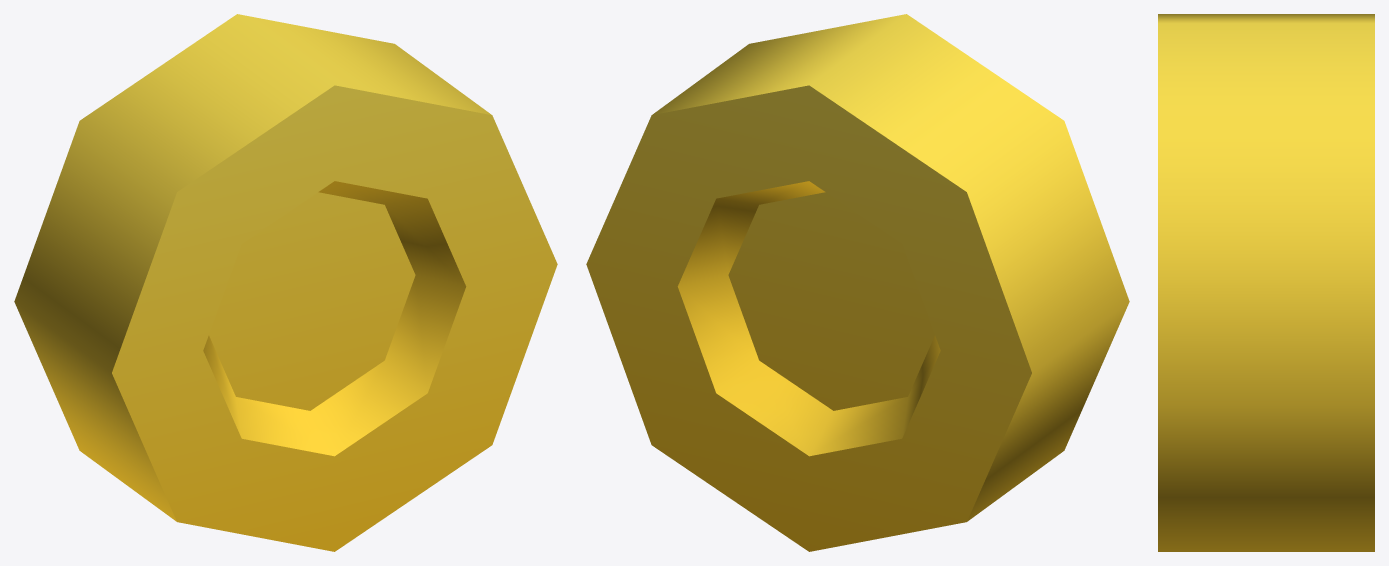
Rendered from Coin_gold.fbx.
3 renders of one model, left to right at view 1: azimuth 30°, elevation 25°; view 2: azimuth 150°, elevation 25°; view 3: azimuth 270°, elevation 25°, orthographic. The views are drawn at different scales.
Parts seen in each view (by area): view 1: item-coin-silver; view 2: item-coin-silver; view 3: item-coin-silver.
Boxes of the visible parts, left/top/right/bottom form: item-coin-silver: left=14, top=14, right=557, bottom=551; item-coin-silver: left=586, top=14, right=1129, bottom=551; item-coin-silver: left=1158, top=14, right=1374, bottom=551.
Size of the model in its own units: 26.4 by 26.4 by 10.
